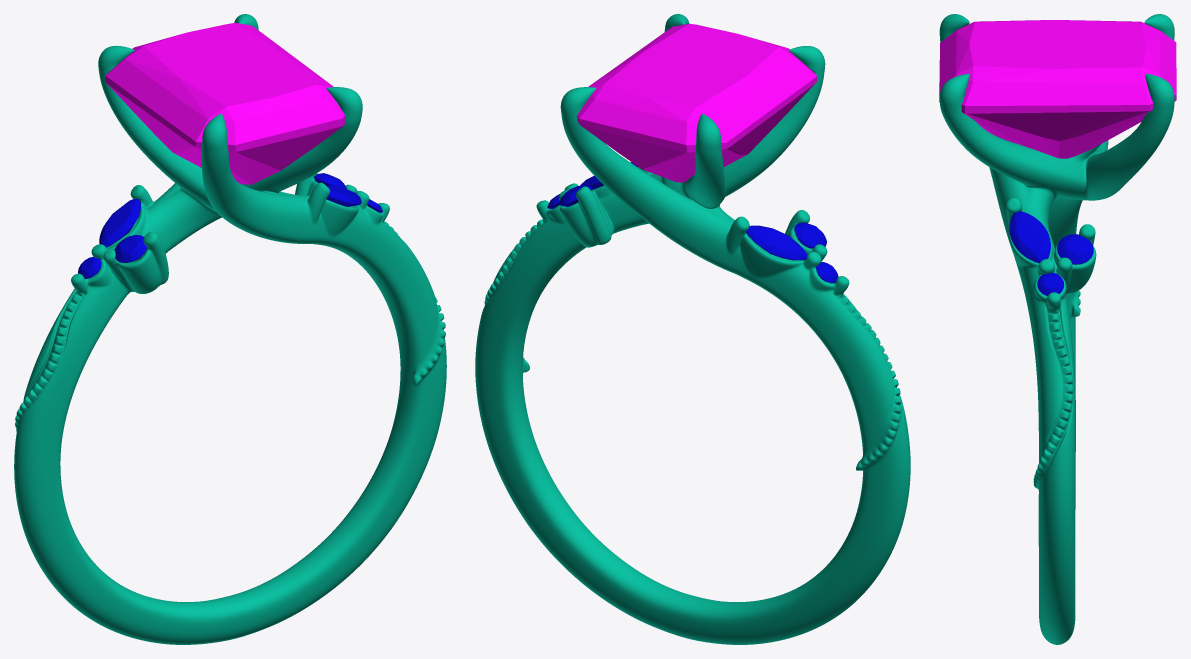
File: BE1D2468_RA_200ct_RENDER.glb
3 renders of one model, left to right at view 1: azimuth 30°, elevation 25°; view 2: azimuth 150°, elevation 25°; view 3: azimuth 270°, elevation 25°, orthographic.
Parts seen in each view (by area): view 1: Metal 01, CS_Diamond_Radiant, Diamond_Marquise_side.001, Diamond_Round_side.003; view 2: Metal 01, CS_Diamond_Radiant, Diamond_Marquise_side.001; view 3: Metal 01, CS_Diamond_Radiant, Diamond_Marquise_side, Diamond_Round_side, Diamond_Round_side.001.
Boxes of the visible parts, x1,y1,x2,y2 form: Metal 01: (14,14,446,644); CS_Diamond_Radiant: (105,23,345,184); Diamond_Marquise_side.001: (99,199,140,247); Diamond_Round_side.003: (114,235,147,262); Metal 01: (475,14,910,644); CS_Diamond_Radiant: (577,23,817,182); Diamond_Marquise_side.001: (746,225,807,260); Metal 01: (939,14,1174,644); CS_Diamond_Radiant: (939,20,1176,158); Diamond_Marquise_side: (1009,211,1050,263); Diamond_Round_side: (1057,234,1093,264); Diamond_Round_side.001: (1037,272,1064,296).
Size of the model in its own units: 20.47 by 26.03 by 9.7.
